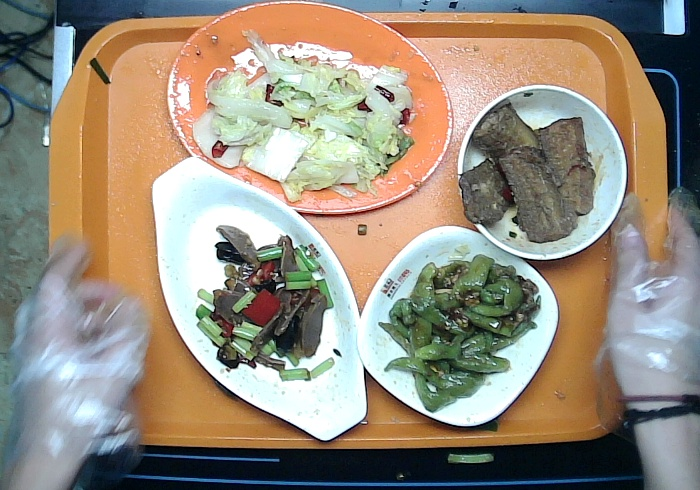NLDX-Bai_Se_Xiao_Fang_Die: (357, 225, 558, 426)
NLDX-Fan_Wan: (457, 84, 628, 260)
NLDX-Ju_Se_Pan: (166, 1, 453, 214)
NLDX-Yu_Pan: (152, 156, 368, 441)
